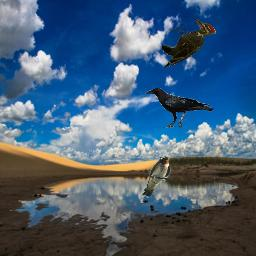Crow: (145, 87, 213, 128)
Swallow: (141, 155, 171, 197)
Woodpecker: (162, 19, 216, 69)
